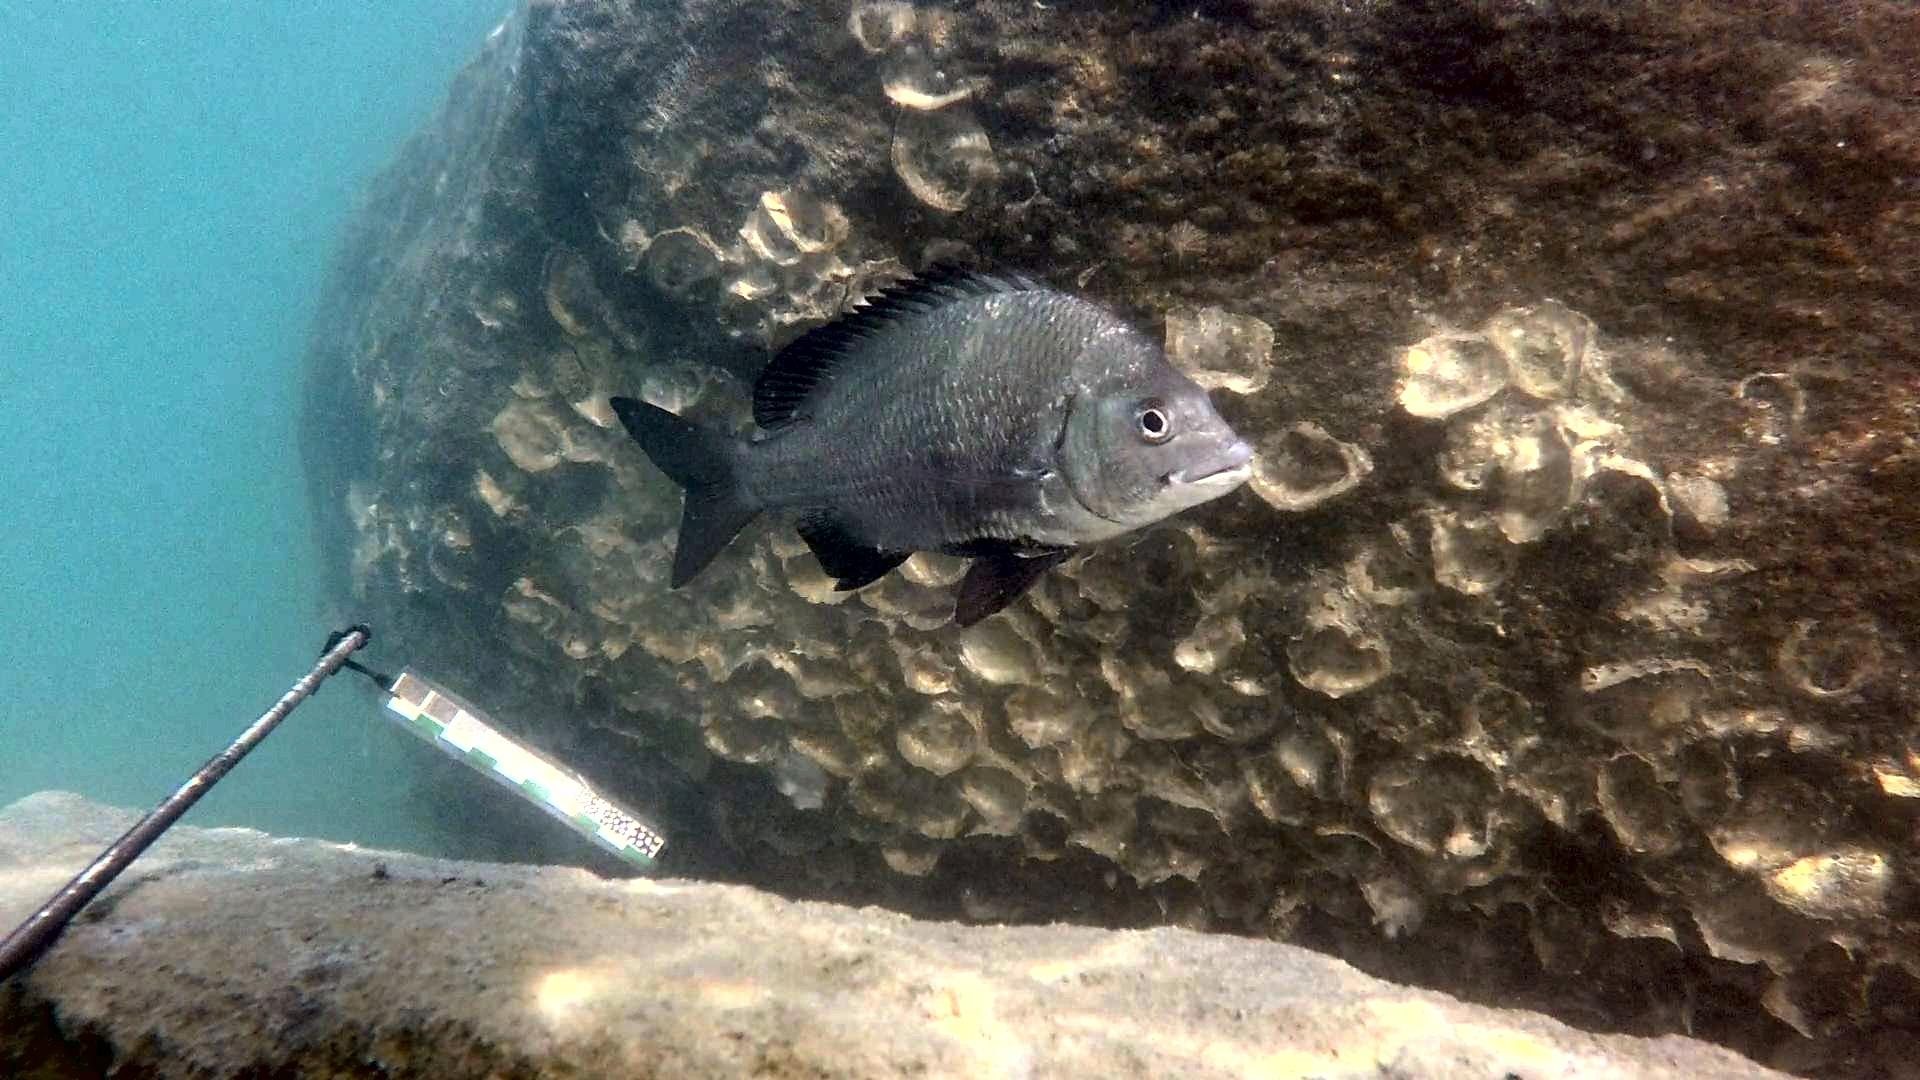acanthopagrus palmaris: (600, 251, 1262, 632)
